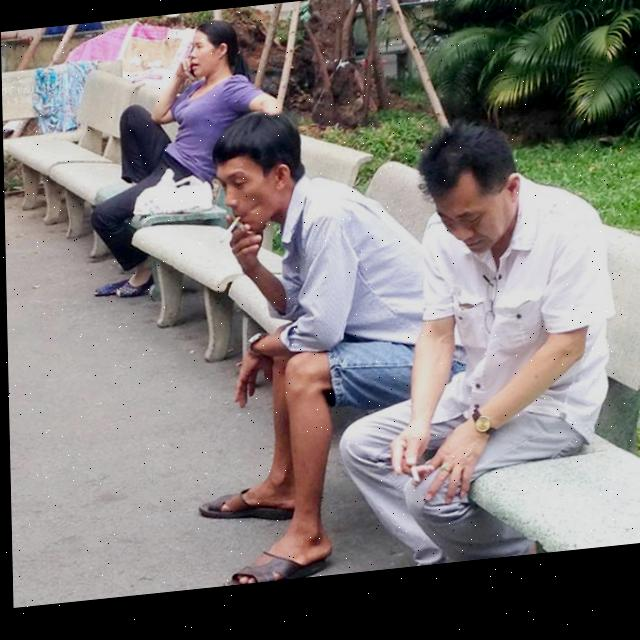cigarette: (218, 221, 241, 249), (408, 474, 418, 494)
